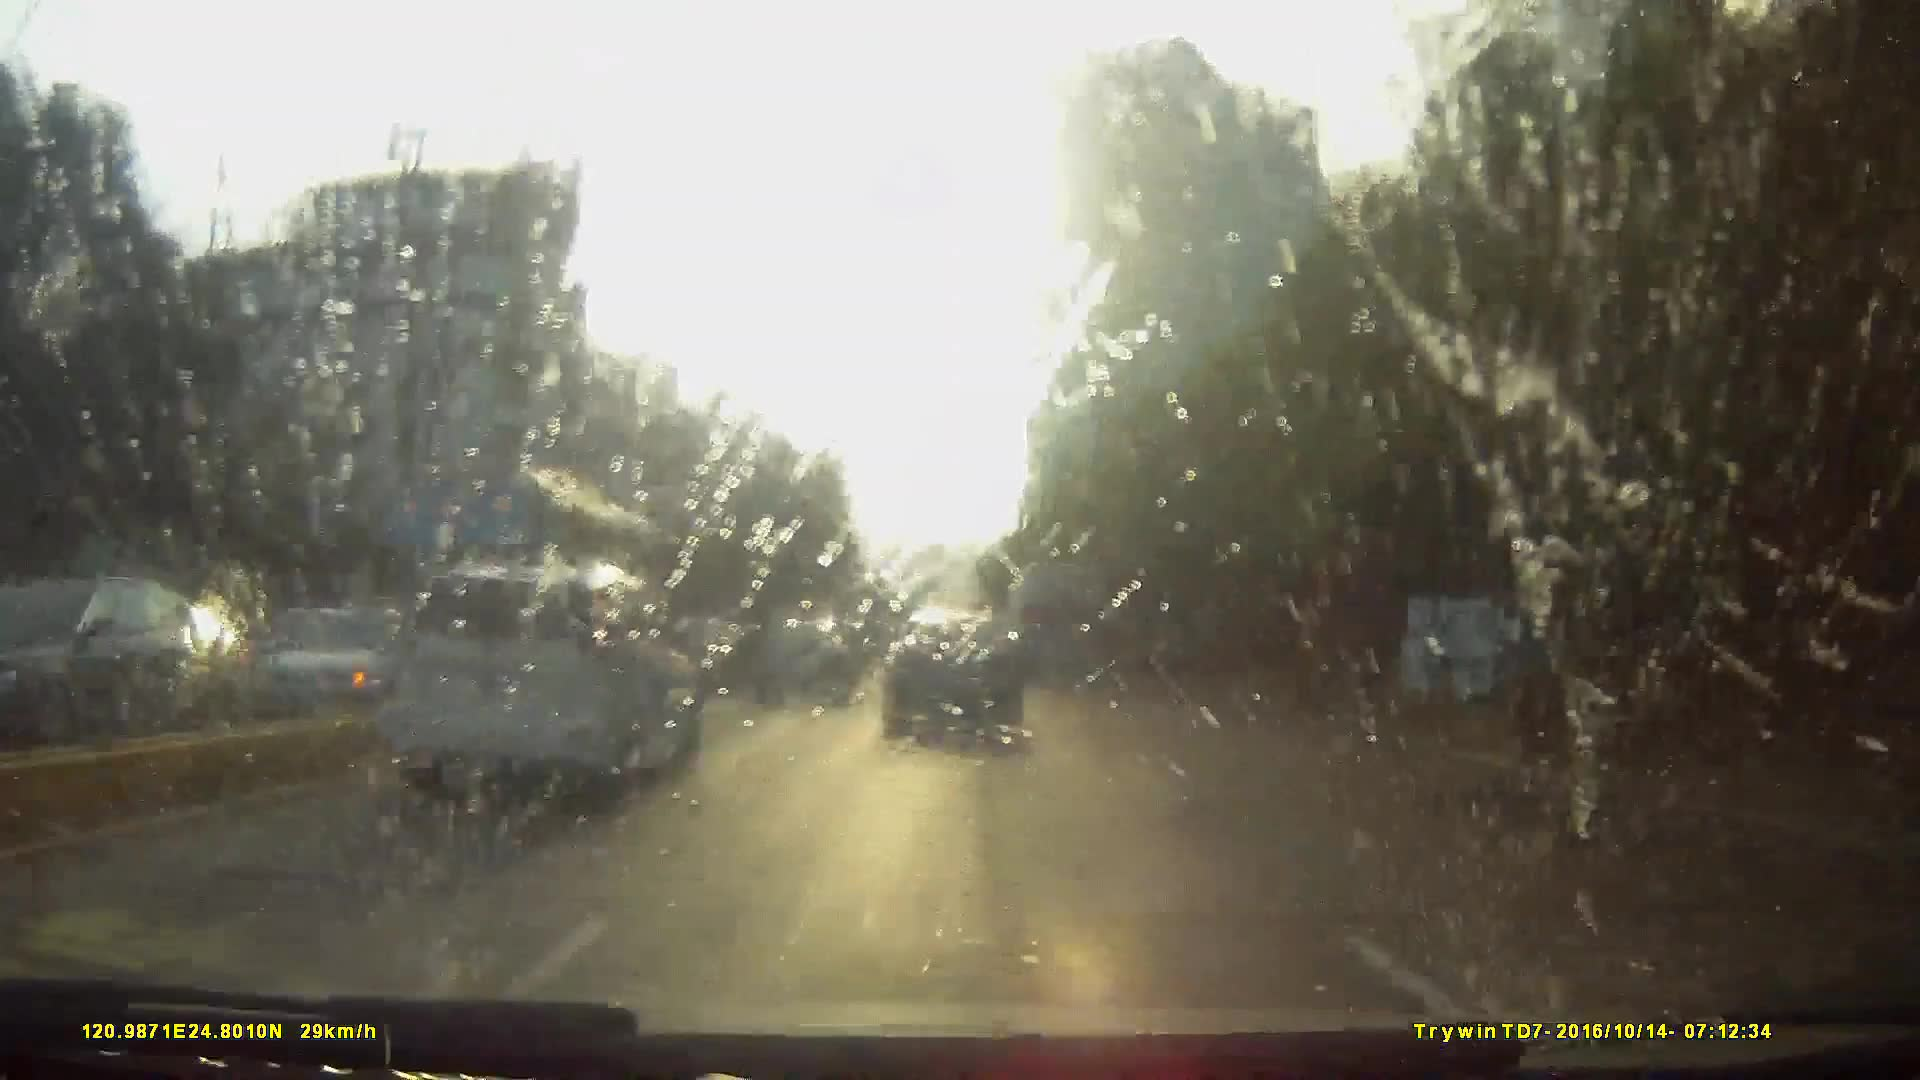vehicle: (251, 556, 684, 868), (313, 454, 684, 723), (396, 556, 704, 791), (884, 607, 1021, 750), (1001, 562, 1106, 688), (742, 618, 851, 705), (866, 638, 915, 687)
